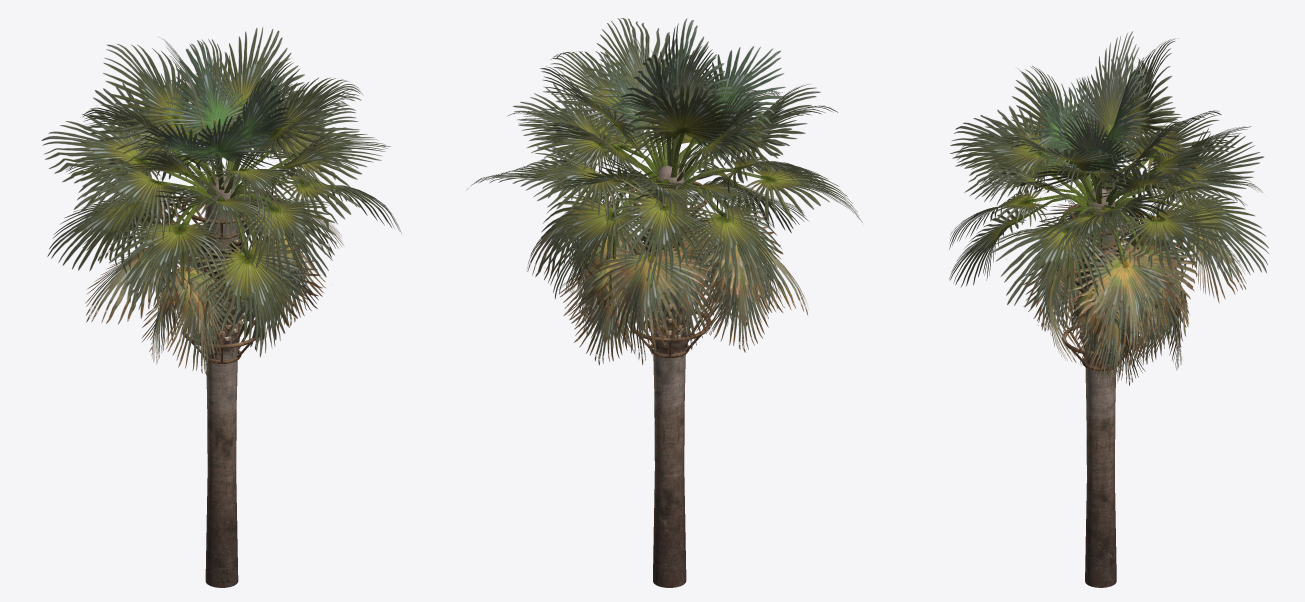
Rendered from xi_oam_palmtree.gltf.
The picture shows the model from 3 angles, left to right: view 1: azimuth 30°, elevation 25°; view 2: azimuth 150°, elevation 25°; view 3: azimuth 270°, elevation 25°; orthographic projection. The views are drawn at different scales.
Parts seen in each view (by area): view 1: xi_oam_palmtree; view 2: xi_oam_palmtree; view 3: xi_oam_palmtree.
Part boxes in pixels (x1,y1,x2,y2): xi_oam_palmtree: (41,27,401,587); xi_oam_palmtree: (467,18,862,587); xi_oam_palmtree: (949,31,1268,587).
Size of the model in its own units: 4.63 by 7.03 by 4.51.
2 materials, 2 textured.
